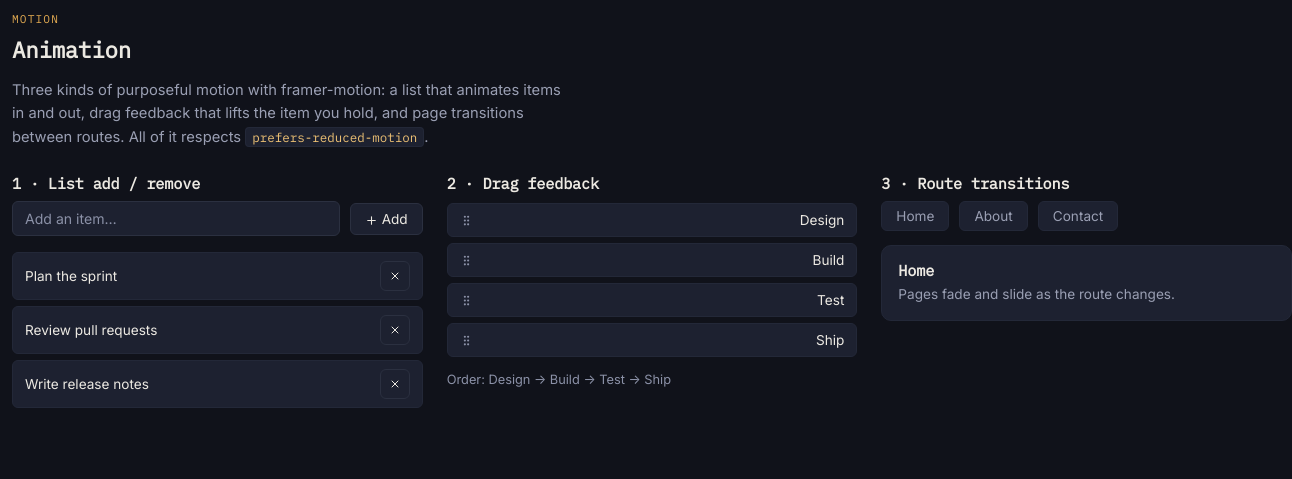
Test: Task 34 – animation › adds items to the animated list
Type "Ship Friday" into the field named "New item". click: (176, 219)
box: [12,202,340,236]
Then press Enter
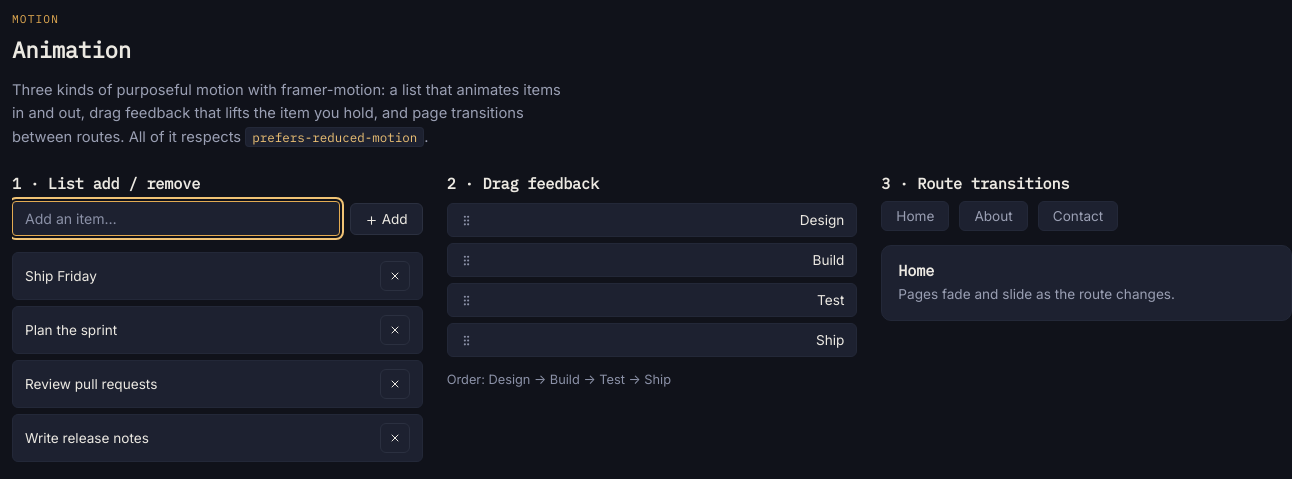
Check: the text "Ship Friday" is shown, box [25,268,97,284]
